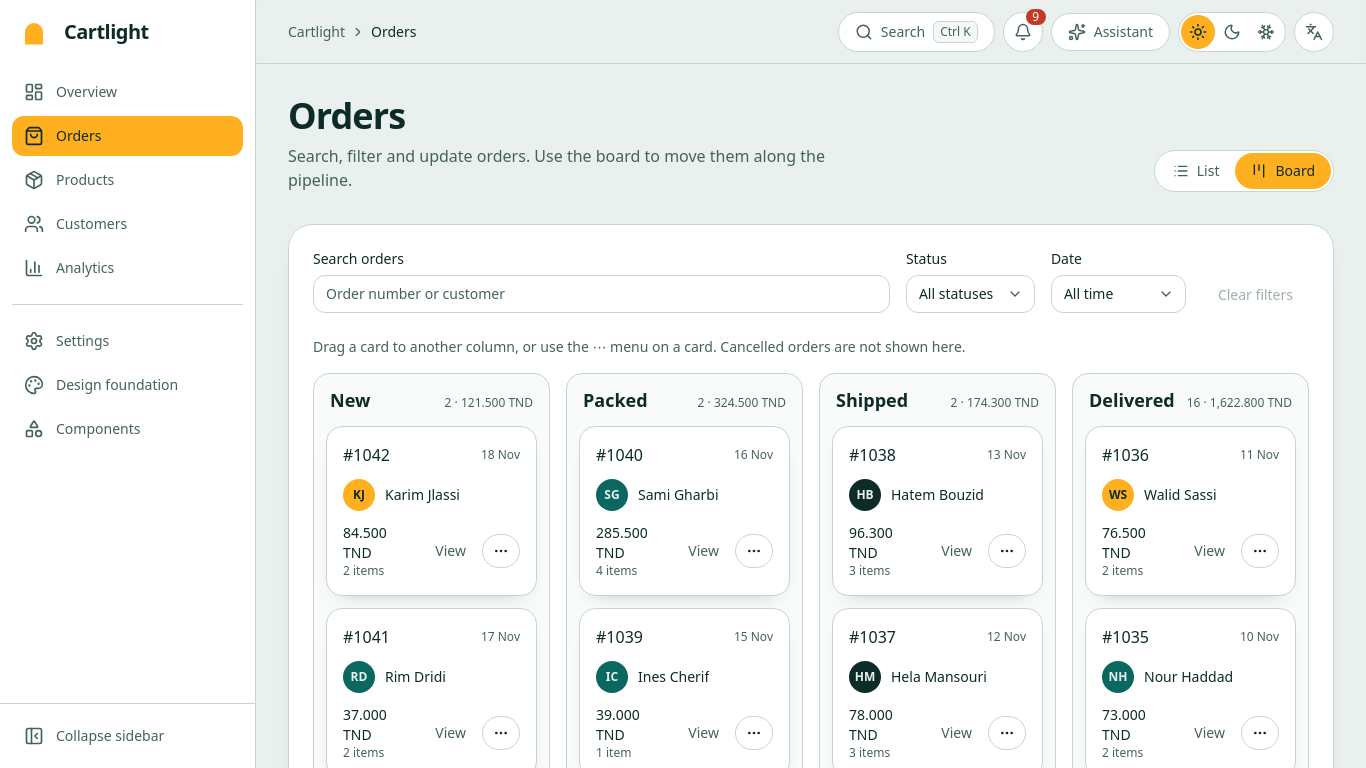
Scenario: orders board › switches between the list and the board
The image size is (1366, 768).
Check: the heading "New" is shown, box [330,386,370,414]
Click the button "List" at (1196, 171), box [1157,153,1235,189]
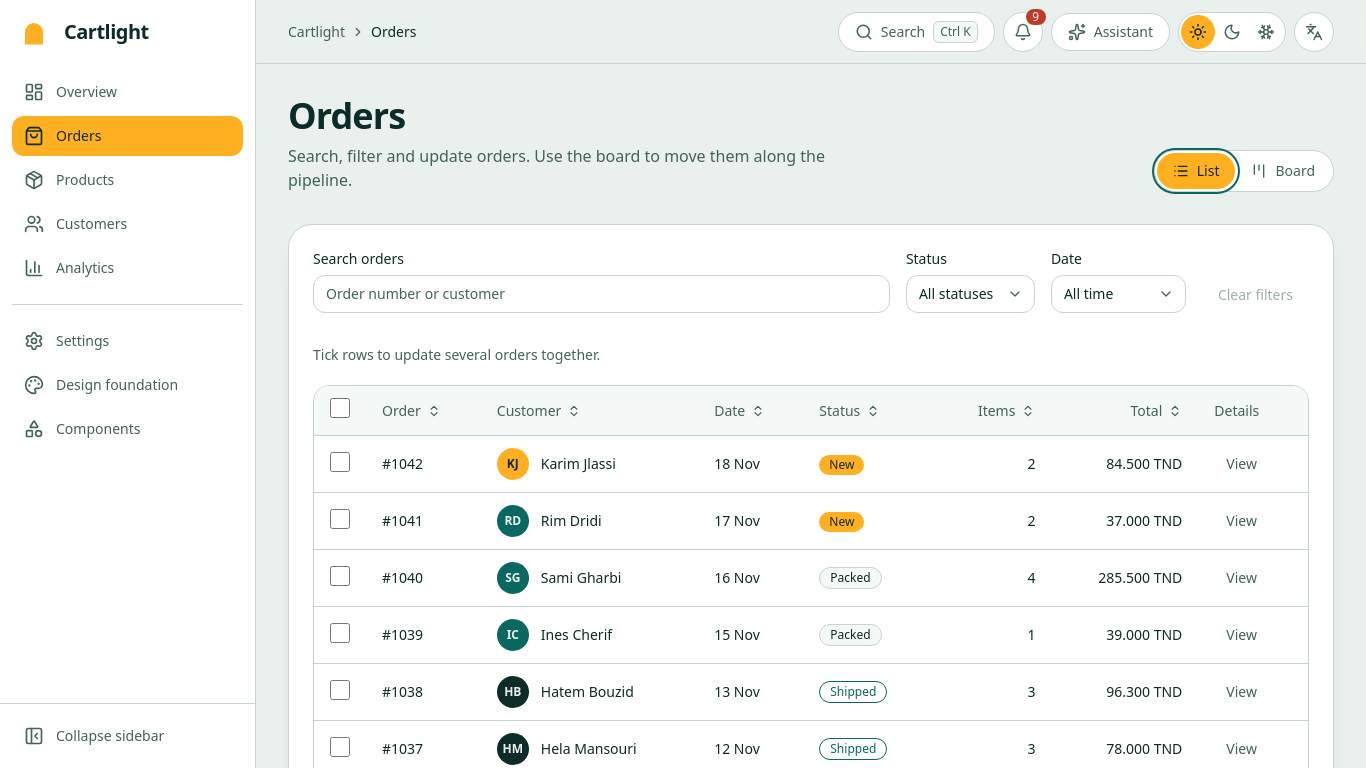
Check: the button "List" is pressed, box [1157,153,1235,189]
